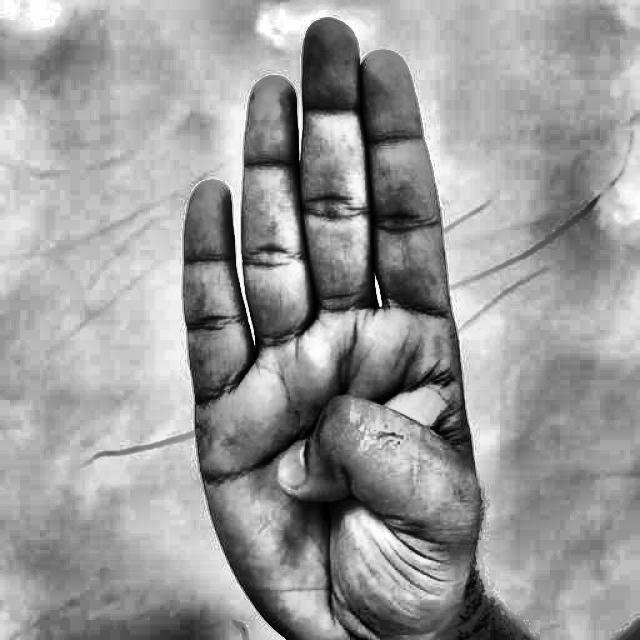Ba: (155, 11, 507, 639)
